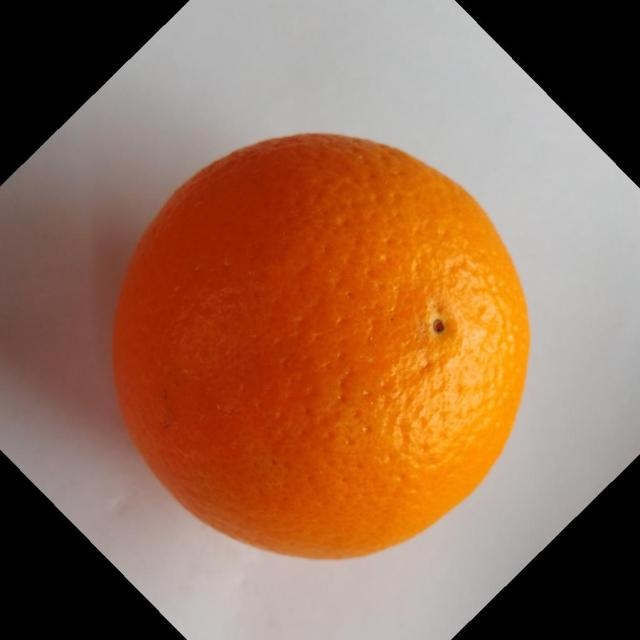agrume: (110, 131, 531, 561)
